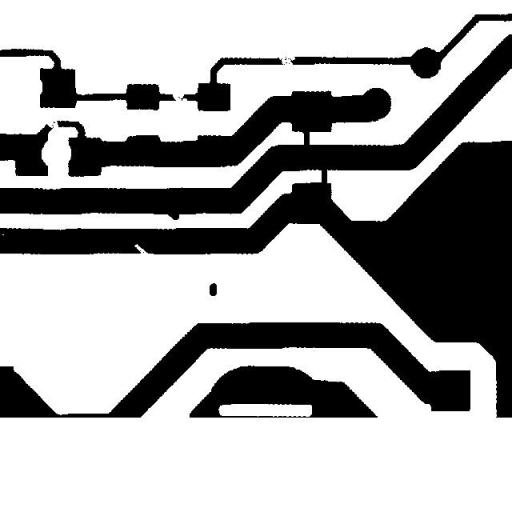copper: (202, 275, 224, 303)
mousebite: (126, 236, 156, 262)
open: (165, 84, 194, 110), (272, 48, 302, 73), (38, 112, 66, 135)
short: (294, 120, 317, 154), (313, 158, 334, 192)
spur: (160, 204, 186, 227)
